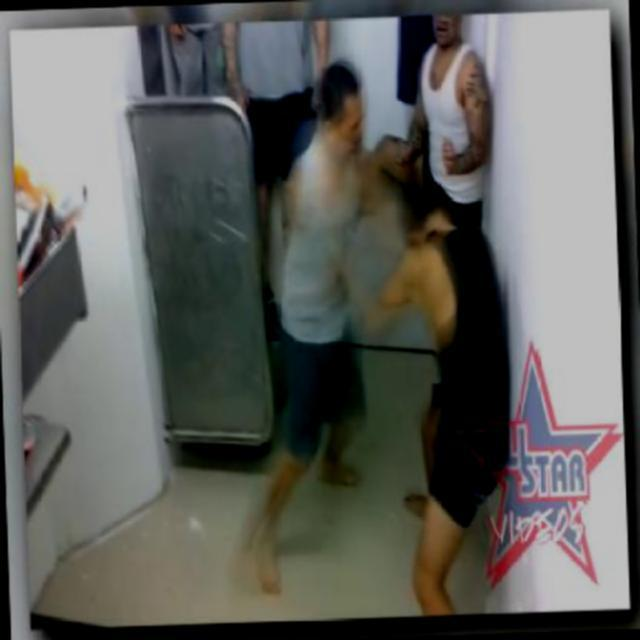fight: (262, 51, 484, 602)
